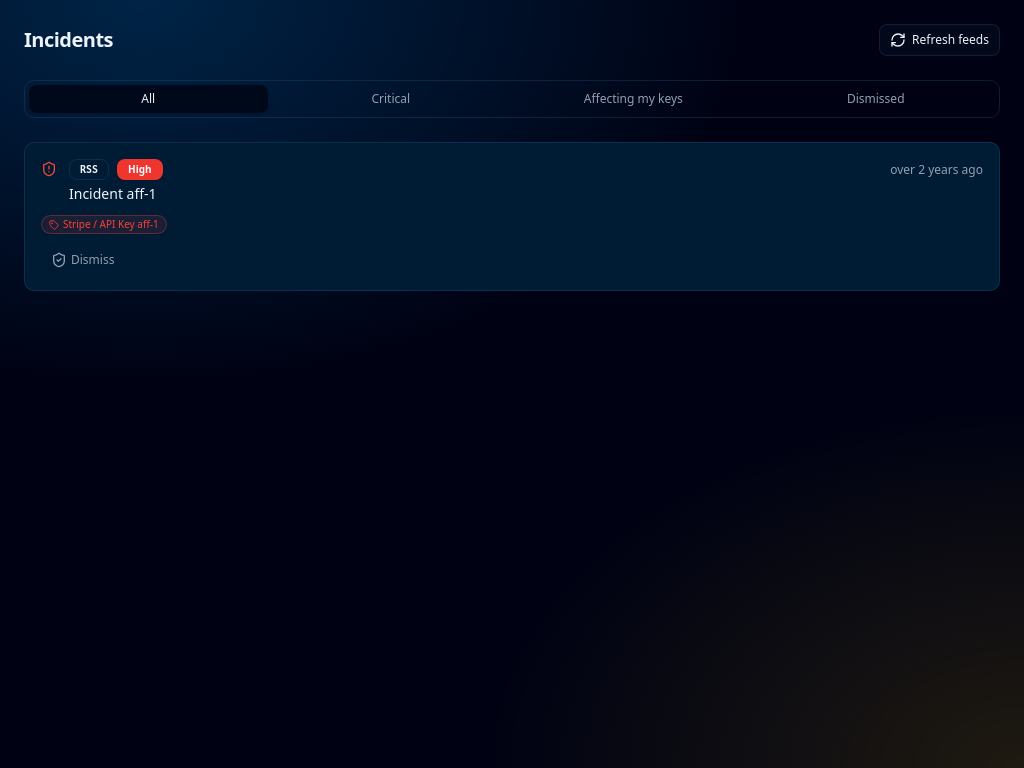
IncidentsPage › 필터 탭이 올바르게 동작한다
Expected: the text "Incident aff-1" is shown, [69,184,157,203]
Note: Click "Critical" tab
Click the tab "Critical". click: [391, 99]
box: [272,85,510,113]
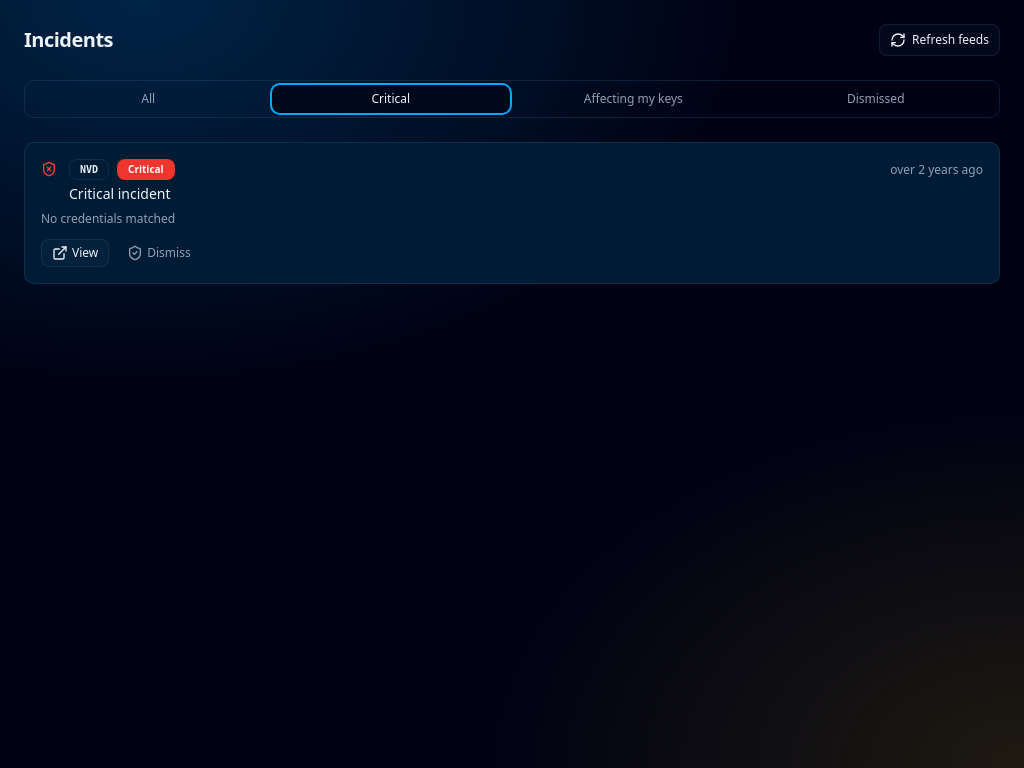
Expected: the text "Critical incident" is shown, [69,184,170,203]
Note: Click "Dismissed" tab
Click the tab "Dismissed". click: [876, 99]
box: [756,85,995,113]
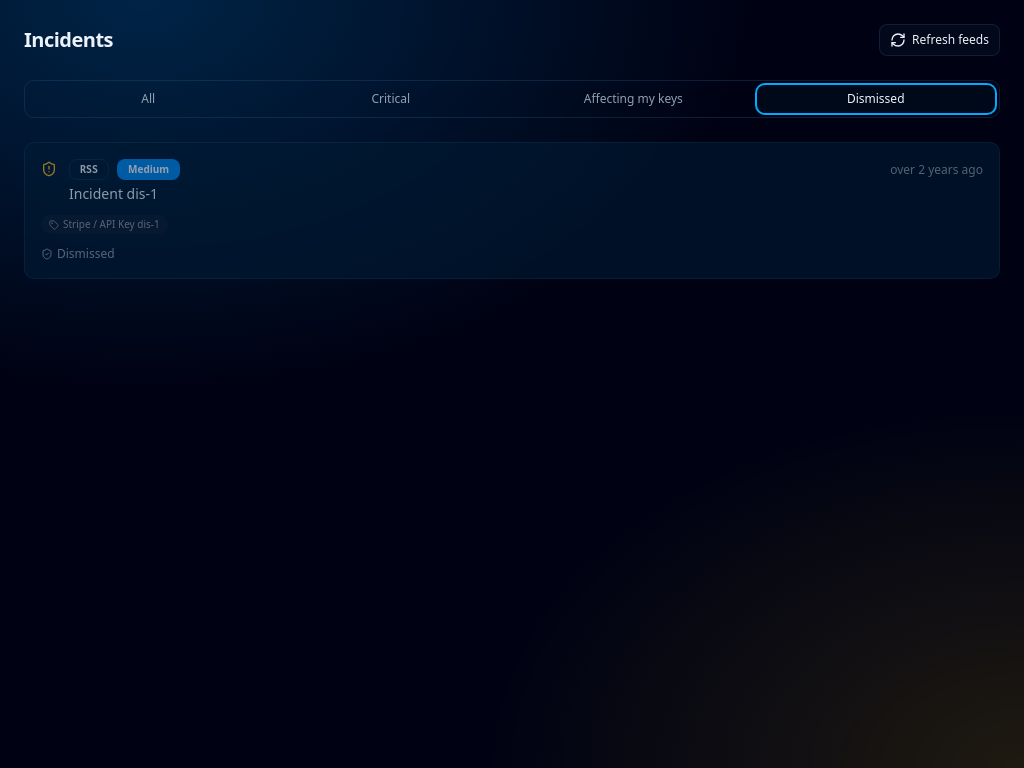
Expected: the text "Incident dis-1" is shown, [69,184,158,203]
